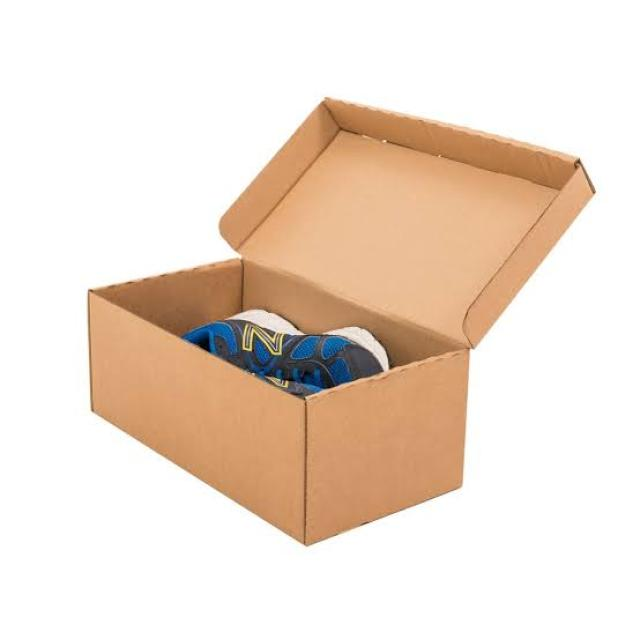paper: (78, 86, 610, 550)
